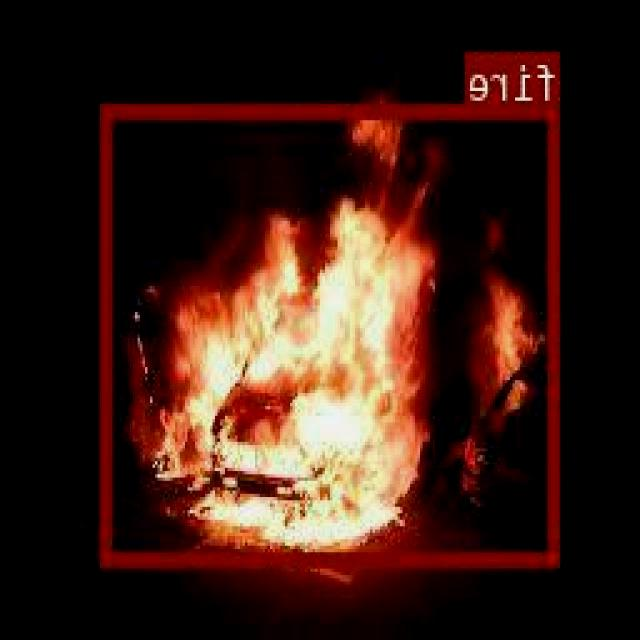fire: (103, 102, 561, 565)
